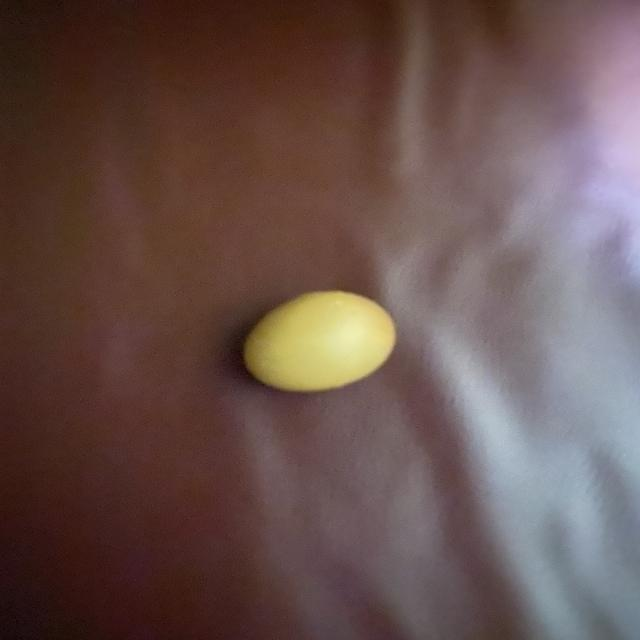egg: (231, 282, 405, 396)
